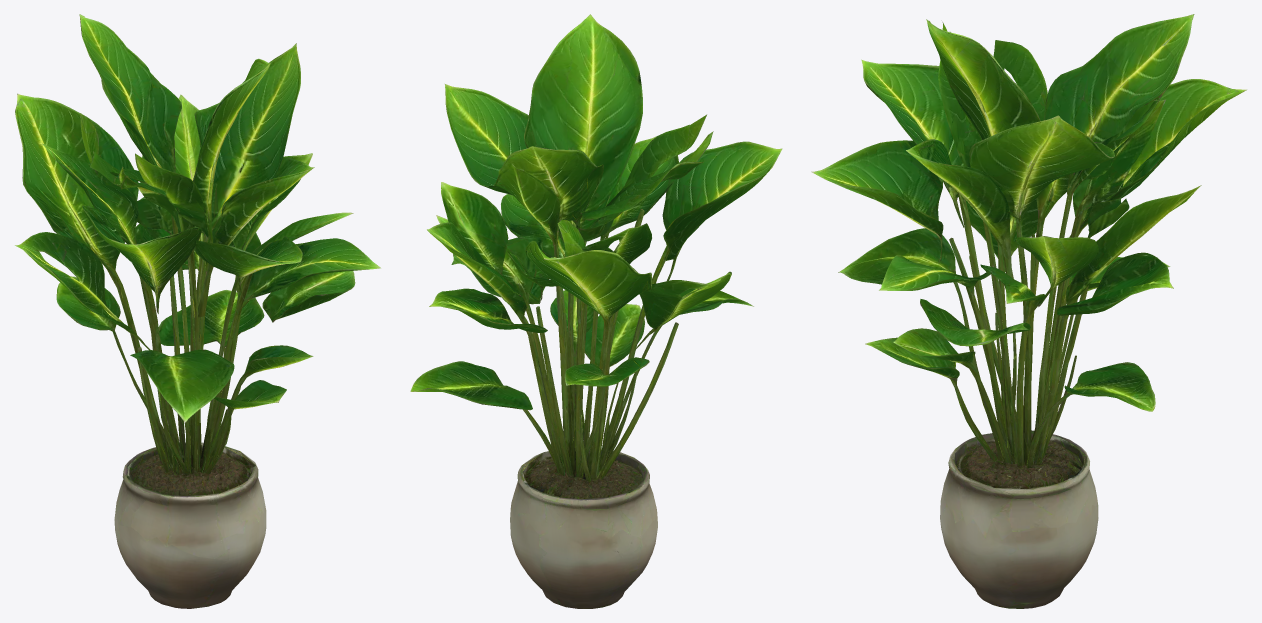
Rendered from potted_plant.glb.
The picture shows the model from 3 angles, left to right: view 1: azimuth 30°, elevation 25°; view 2: azimuth 150°, elevation 25°; view 3: azimuth 270°, elevation 25°; orthographic projection. The views are drawn at different scales.
Bounding box in the file's own units: 1.13 × 1.9 × 1.27.
1 material, 1 textured.
